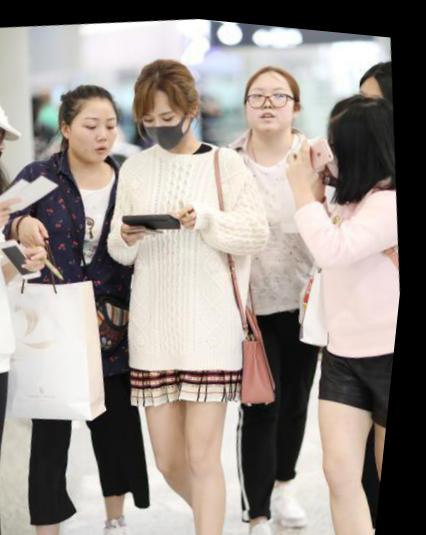NONE: (243, 70, 299, 133), (74, 102, 127, 167)
OK: (138, 90, 194, 151)
WRONG: (1, 116, 18, 183)
